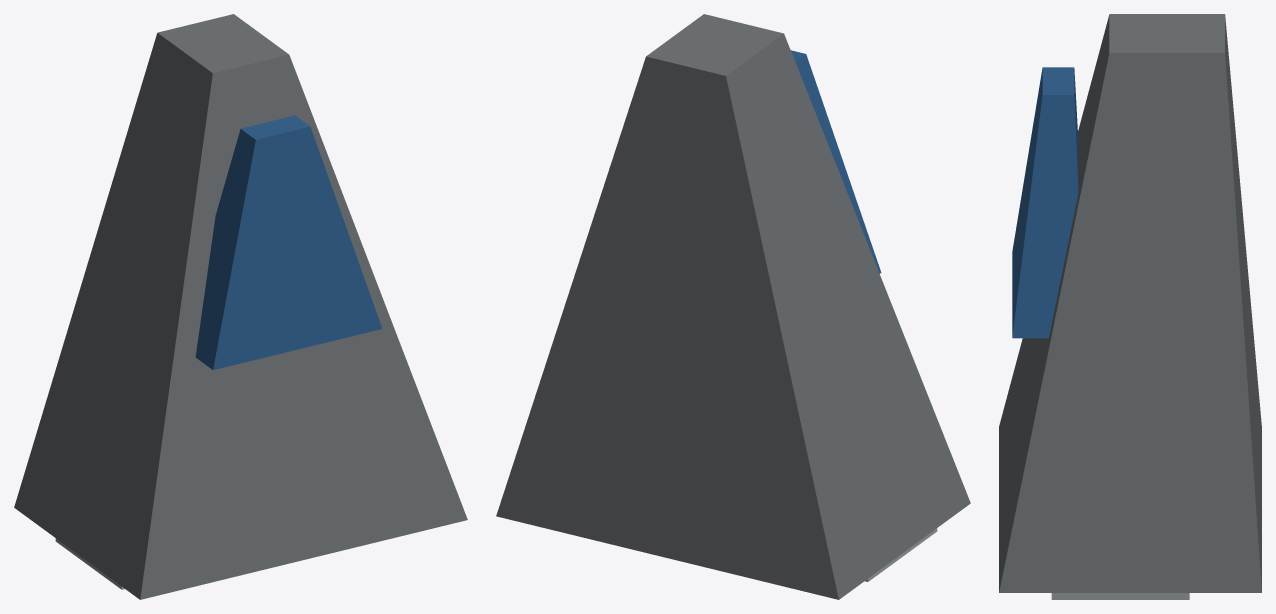
The model's file is cockpit_wedge_mk1.glb.
3 views of the same model, side by side, from view 1: azimuth 30°, elevation 25°; view 2: azimuth 150°, elevation 25°; view 3: azimuth 270°, elevation 25° (orthographic). The views are drawn at different scales.
Parts seen in each view (by area): view 1: GEO_Cockpit_Wedge_Body, GEO_Cockpit_Canopy_DarkBlue; view 2: GEO_Cockpit_Wedge_Body, GEO_Cockpit_Canopy_DarkBlue; view 3: GEO_Cockpit_Wedge_Body, GEO_Cockpit_Canopy_DarkBlue, GEO_Cockpit_Rear_Panel.
Part boxes in pixels (x1,y1,x2,y2): GEO_Cockpit_Wedge_Body: (14,14,467,599); GEO_Cockpit_Canopy_DarkBlue: (195,115,382,370); GEO_Cockpit_Wedge_Body: (496,14,970,599); GEO_Cockpit_Canopy_DarkBlue: (791,50,881,273); GEO_Cockpit_Wedge_Body: (999,14,1261,592); GEO_Cockpit_Canopy_DarkBlue: (1012,67,1078,338); GEO_Cockpit_Rear_Panel: (1051,593,1189,599).
Size of the model in its own units: 1.2 by 1.67 by 0.8.
